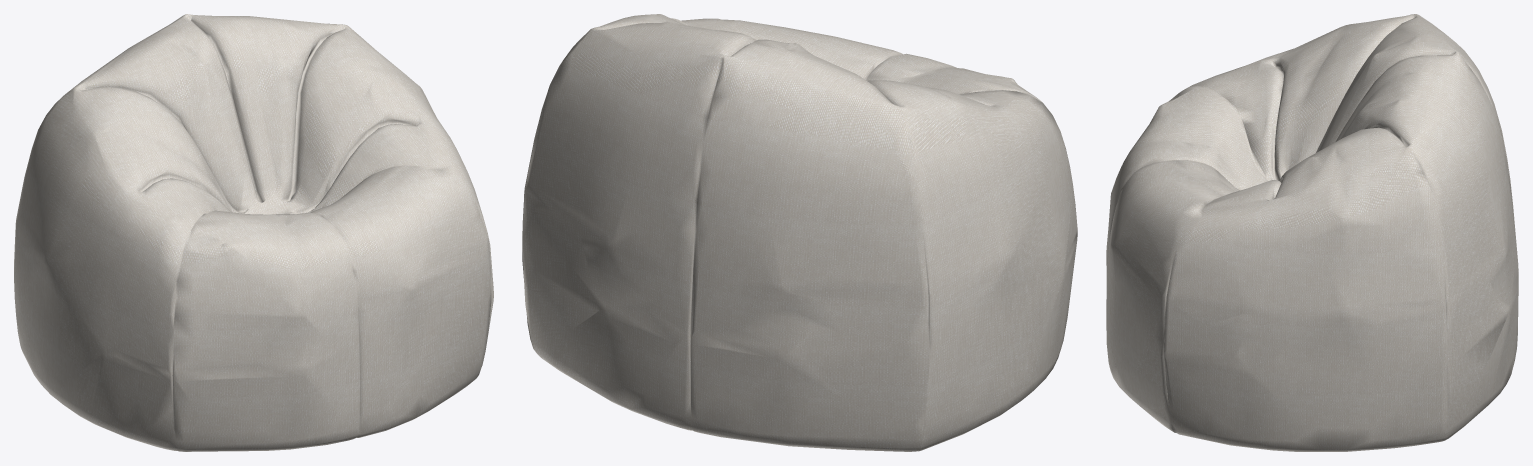
Rendered from Puff.FBX.
3 views of the same model, side by side, from view 1: azimuth 30°, elevation 25°; view 2: azimuth 150°, elevation 25°; view 3: azimuth 270°, elevation 25° (orthographic). The views are drawn at different scales.
Visible parts, largest first — view 1: puff; view 2: puff; view 3: puff.
Boxes of the visible parts, x1,y1,x2,y2 form: puff: [14, 14, 493, 451]; puff: [522, 14, 1077, 451]; puff: [1106, 14, 1518, 451].
Bounding box in the file's own units: 61.46 × 45.81 × 55.51.
Materials: 1 (1 with a texture image).
